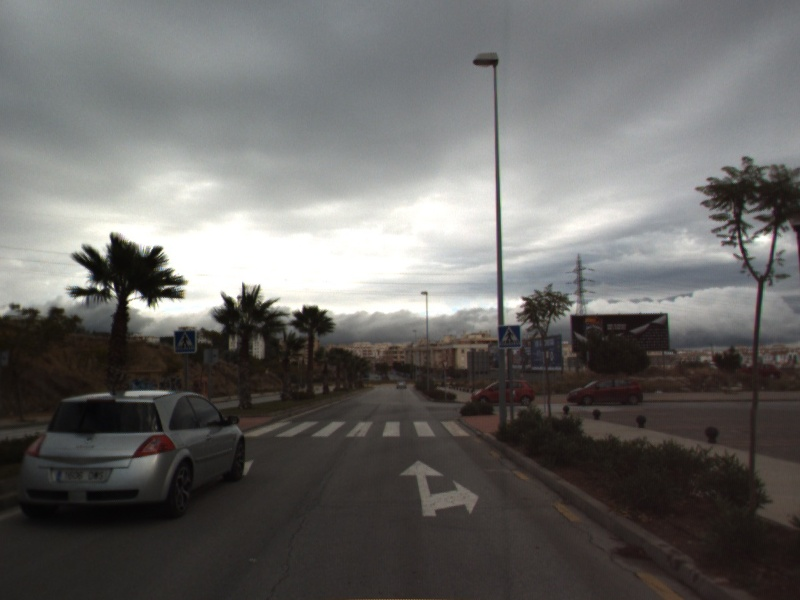STRAIGHT_RIGHT: (397, 458, 481, 518)
